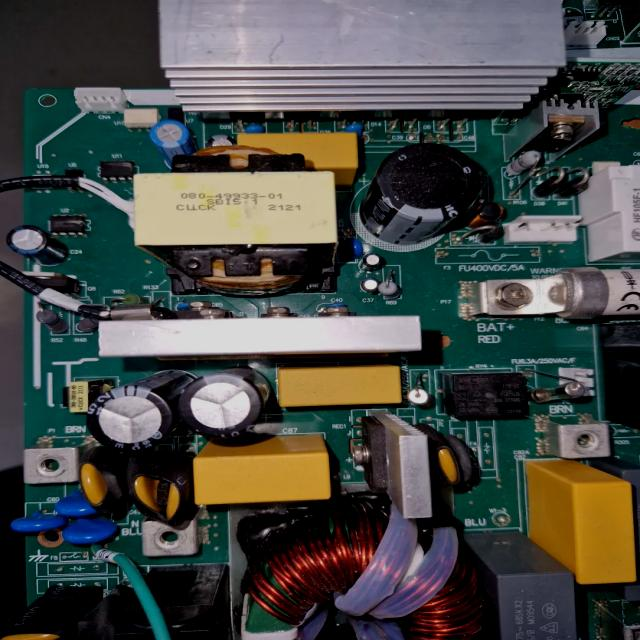A: (248, 508, 491, 640)
B: (464, 268, 640, 318)
C: (362, 143, 479, 245), (178, 372, 270, 438), (86, 383, 174, 452)
